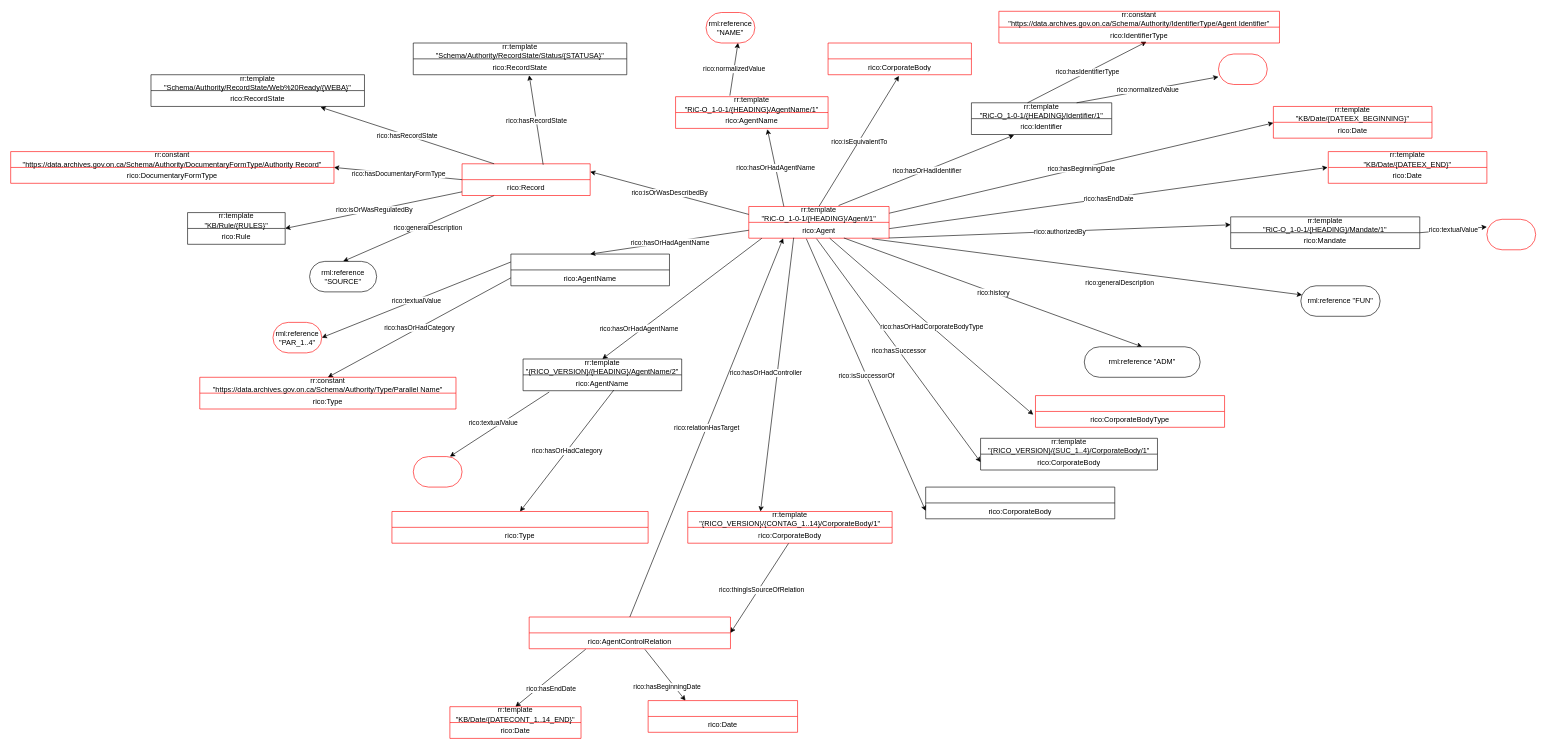
This 1546x751 diagram has some shape labels left out. The box of each missing label's shape, as (x1, y1, x2, y2) in pixels:
rml:reference "AA": (1486, 219, 1536, 250)
rml:reference "REFA": (1218, 53, 1267, 84)
rml:reference "VAR_1..11": (413, 456, 462, 487)
rr:constant "https://data.archives.gov.on.ca/Schema/Authority/Type/Variant Name": (391, 511, 648, 543)
rr:template " Schema/Authority/ CorporateBodyType / {AUTHTP_1..2}": (1035, 395, 1225, 427)
rr:template " {RICO_VERSION} / { PRED_1..5 }/CorporateBody/1": (925, 486, 1115, 519)
rr:template " {RICO_VERSION} / {HEADING}/AgentName/3": (510, 253, 669, 286)
rr:template "KB/Date/{DATECONT_1..14_BEGINNING}": (648, 700, 798, 732)
rr:template "RiC-O_1-0-1/ {HEADING}/Record/1": (461, 163, 590, 196)
rr:template "RiC-O_1-0-1/{REFA}/CorporateBody/2": (827, 42, 971, 75)
rr:template "{RICO_VERSION}/{HEADING}/AgentControlRelation/1": (529, 616, 730, 649)
